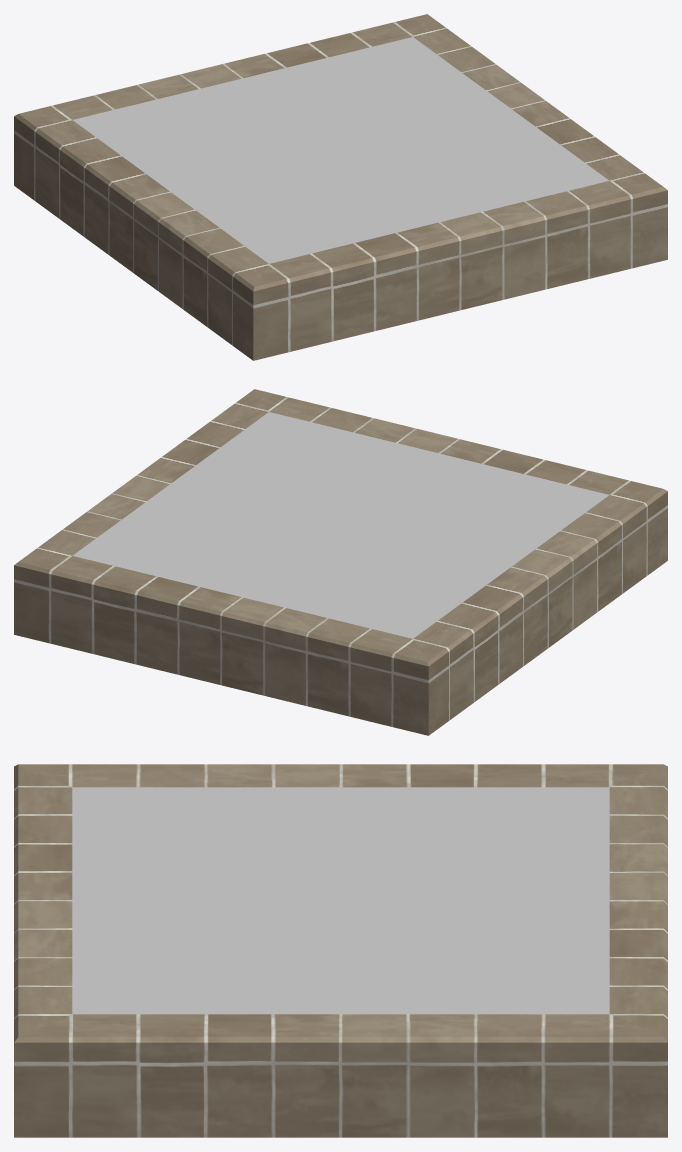
Rendered from PlatformSmall.fbx.
3 views of the same model, one above another, from view 1: azimuth 30°, elevation 25°; view 2: azimuth 150°, elevation 25°; view 3: azimuth 270°, elevation 25° (orthographic). The views are drawn at different scales.
Parts seen in each view (by area): view 1: PlatformSmall; view 2: PlatformSmall; view 3: PlatformSmall.
Boxes of the visible parts, x1,y1,x2,y2 form: PlatformSmall: [14, 14, 667, 360]; PlatformSmall: [14, 389, 667, 735]; PlatformSmall: [14, 764, 667, 1137].
Bounding box in the file's own units: 300 × 50 × 300.
